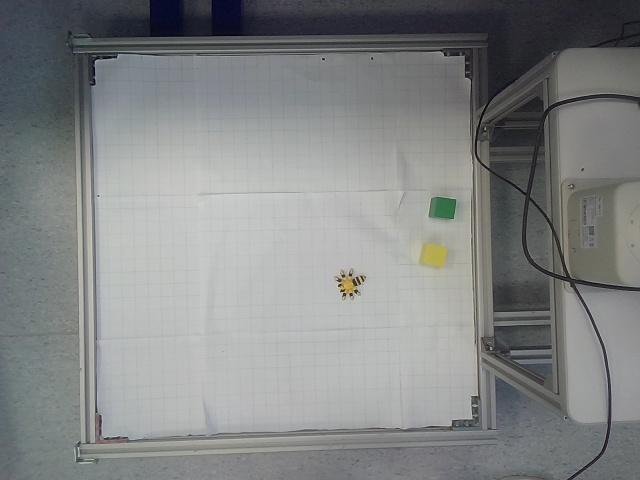frelon: (335, 268, 366, 301)
